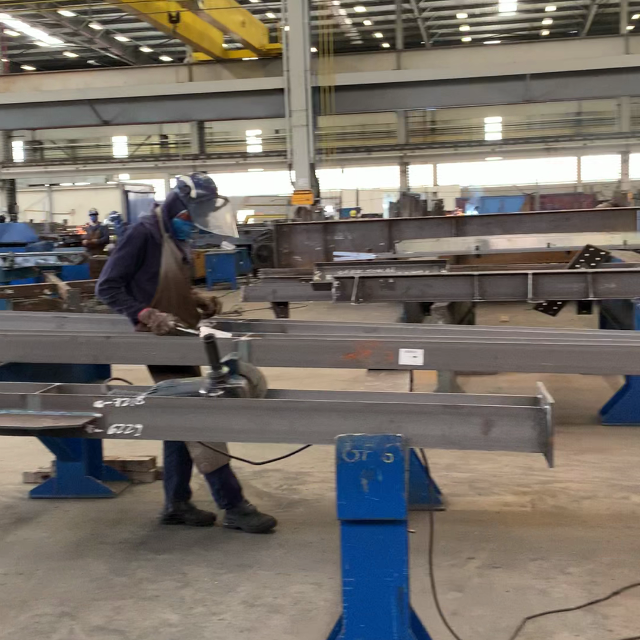face-shield: (190, 192, 240, 238)
glove: (135, 306, 186, 336), (188, 294, 225, 317)
helmet: (174, 171, 218, 197)
person: (95, 168, 224, 336)
safety-shoe: (224, 499, 279, 537), (159, 498, 220, 529)
